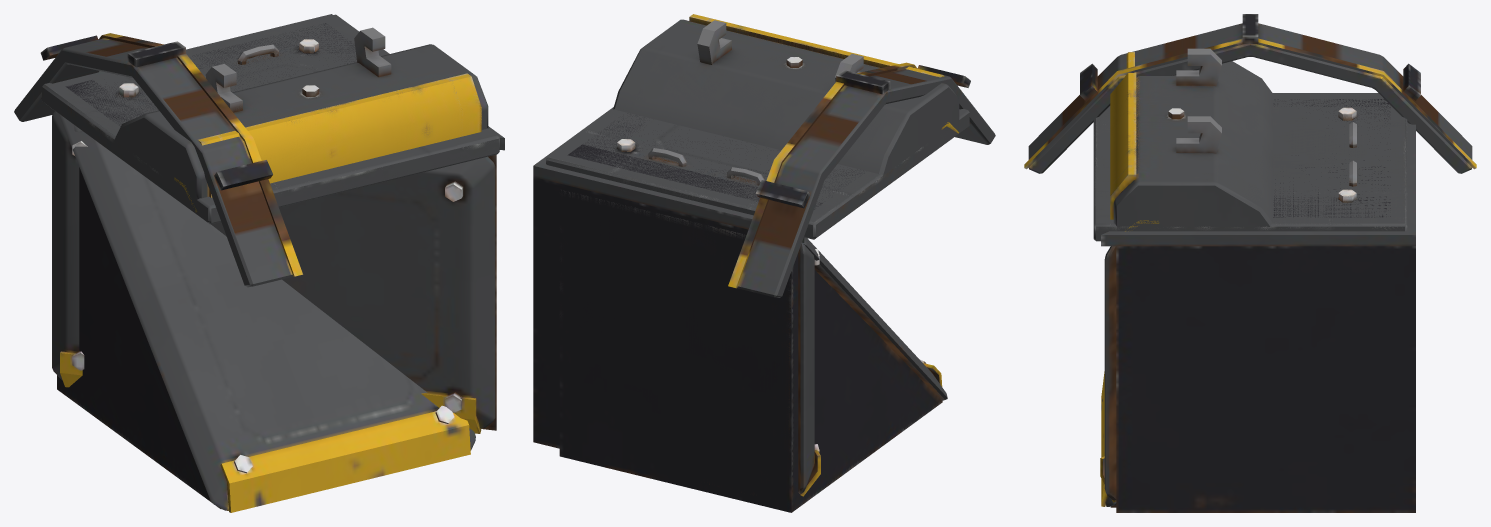
File: R4H_HullKit.fbx
The picture shows the model from 3 angles, left to right: view 1: azimuth 30°, elevation 25°; view 2: azimuth 150°, elevation 25°; view 3: azimuth 270°, elevation 25°; orthographic projection. The views are drawn at different scales.
Visible parts, largest first — view 1: ramp, cheek, nose_0, lip, nose_1, plate_07_0, nose_2, nose_3, plate_08_0, plate_05_0, plate_02_0, plate_06_0 (+10 smaller); view 2: ramp, cheek, nose_0, lip, nose_1, nose_2, plate_02_0, nose_3, plate_00_1, plate_14_0, gasket, plate_08_0 (+11 smaller); view 3: cheek, lip, nose_1, plate_07_0, nose_0, nose_3, plate_15_0, plate_05_0, nose_2, plate_06_0, plate_13_0, plate_01_0 (+10 smaller).
Boxes of the visible parts, box(x1,y1,x2,y2) form: ramp: box(57, 114, 475, 512); cheek: box(52, 14, 504, 433); nose_0: box(212, 27, 462, 183); lip: box(14, 33, 302, 287); nose_1: box(216, 44, 488, 183); plate_07_0: box(45, 14, 384, 135); nose_2: box(110, 49, 455, 210); nose_3: box(148, 30, 486, 197); plate_08_0: box(127, 39, 474, 206); plate_05_0: box(88, 14, 386, 93); plate_02_0: box(56, 45, 339, 212); plate_06_0: box(42, 25, 303, 209); ramp: box(559, 190, 947, 512); cheek: box(533, 107, 820, 496); nose_0: box(632, 18, 924, 169); lip: box(728, 62, 995, 297); nose_1: box(613, 14, 924, 169); nose_2: box(634, 19, 959, 188); plate_02_0: box(615, 121, 958, 228); nose_3: box(615, 15, 946, 173); plate_00_1: box(615, 119, 771, 186); plate_14_0: box(579, 109, 969, 238); gasket: box(567, 113, 864, 209); plate_08_0: box(613, 118, 840, 185); cheek: box(1100, 122, 1415, 512); lip: box(1024, 14, 1476, 173); nose_1: box(1110, 60, 1273, 231); plate_07_0: box(1273, 93, 1406, 223); nose_0: box(1110, 48, 1272, 213); nose_3: box(1110, 49, 1272, 220); plate_15_0: box(1094, 93, 1407, 241); plate_05_0: box(1125, 118, 1406, 231); nose_2: box(1110, 52, 1272, 210); plate_06_0: box(1273, 93, 1406, 202); plate_13_0: box(1096, 137, 1407, 241); plate_01_0: box(1128, 108, 1369, 231).
Bounding box in the file's own units: 56.5 × 72.66 × 79.27.
